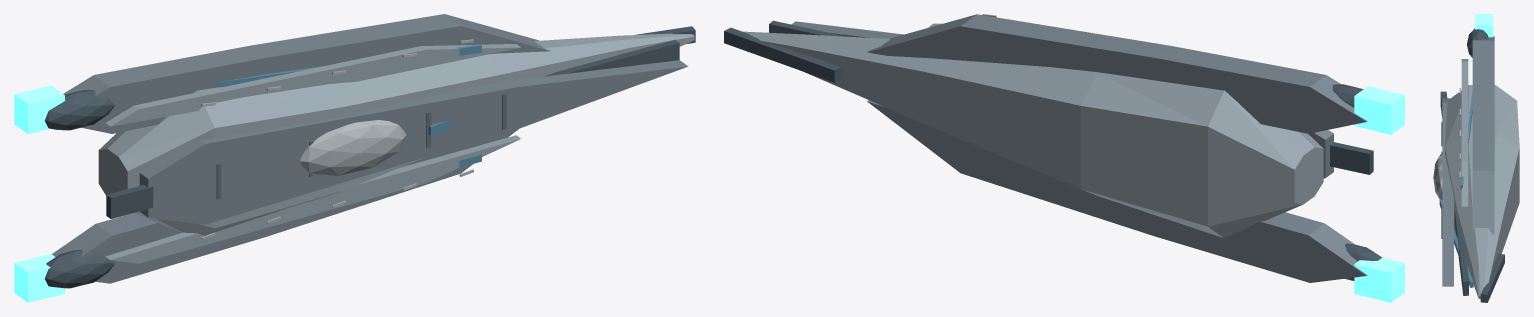
The model's file is alliance-kilimanjaro.glb.
The picture shows the model from 3 angles, left to right: view 1: azimuth 30°, elevation 25°; view 2: azimuth 150°, elevation 25°; view 3: azimuth 270°, elevation 25°; orthographic projection. The views are drawn at different scales.
Parts seen in each view (by area): view 1: Hull and platework, Engines and emitters; view 2: Hull and platework, Engines and emitters; view 3: Hull and platework, Engines and emitters.
Part boxes in pixels (left/top/right/bottom): Hull and platework: left=44, top=14, right=695, bottom=288; Engines and emitters: left=14, top=85, right=64, bottom=302; Hull and platework: left=724, top=14, right=1381, bottom=282; Engines and emitters: left=1354, top=86, right=1404, bottom=302; Hull and platework: left=1433, top=28, right=1519, bottom=302; Engines and emitters: left=1475, top=14, right=1493, bottom=37.
Size of the model in its own units: 4.01 by 1.13 by 0.67.
